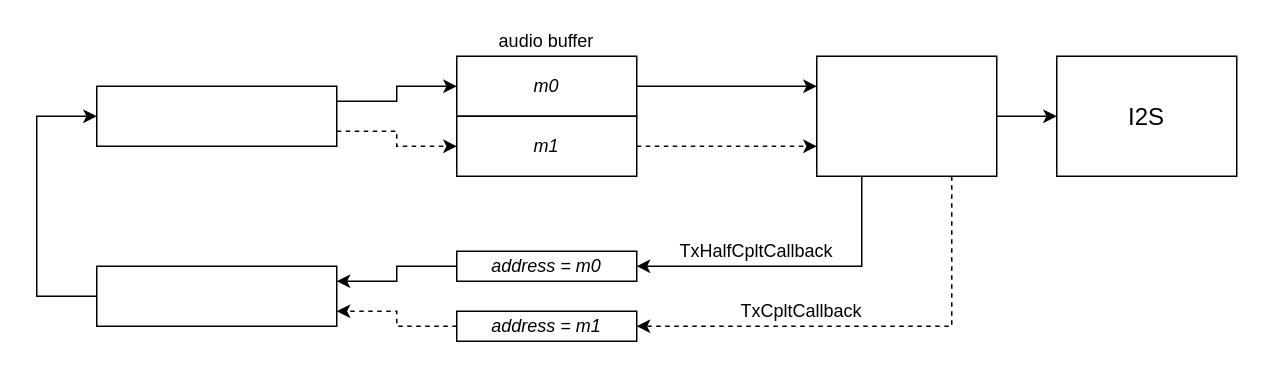
This 1263x368 diagram has some shape labels left out. Here are the shapes that lost their labels. From the top down, the box of each, then its label:
(95, 85, 337, 146): audio_out_write()
(815, 55, 997, 176): DMA
(95, 265, 337, 326): audio_out_write_callback()
